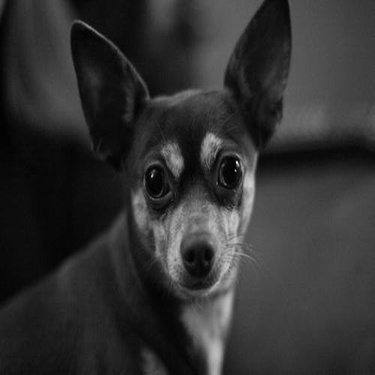dog: (6, 2, 297, 372)
